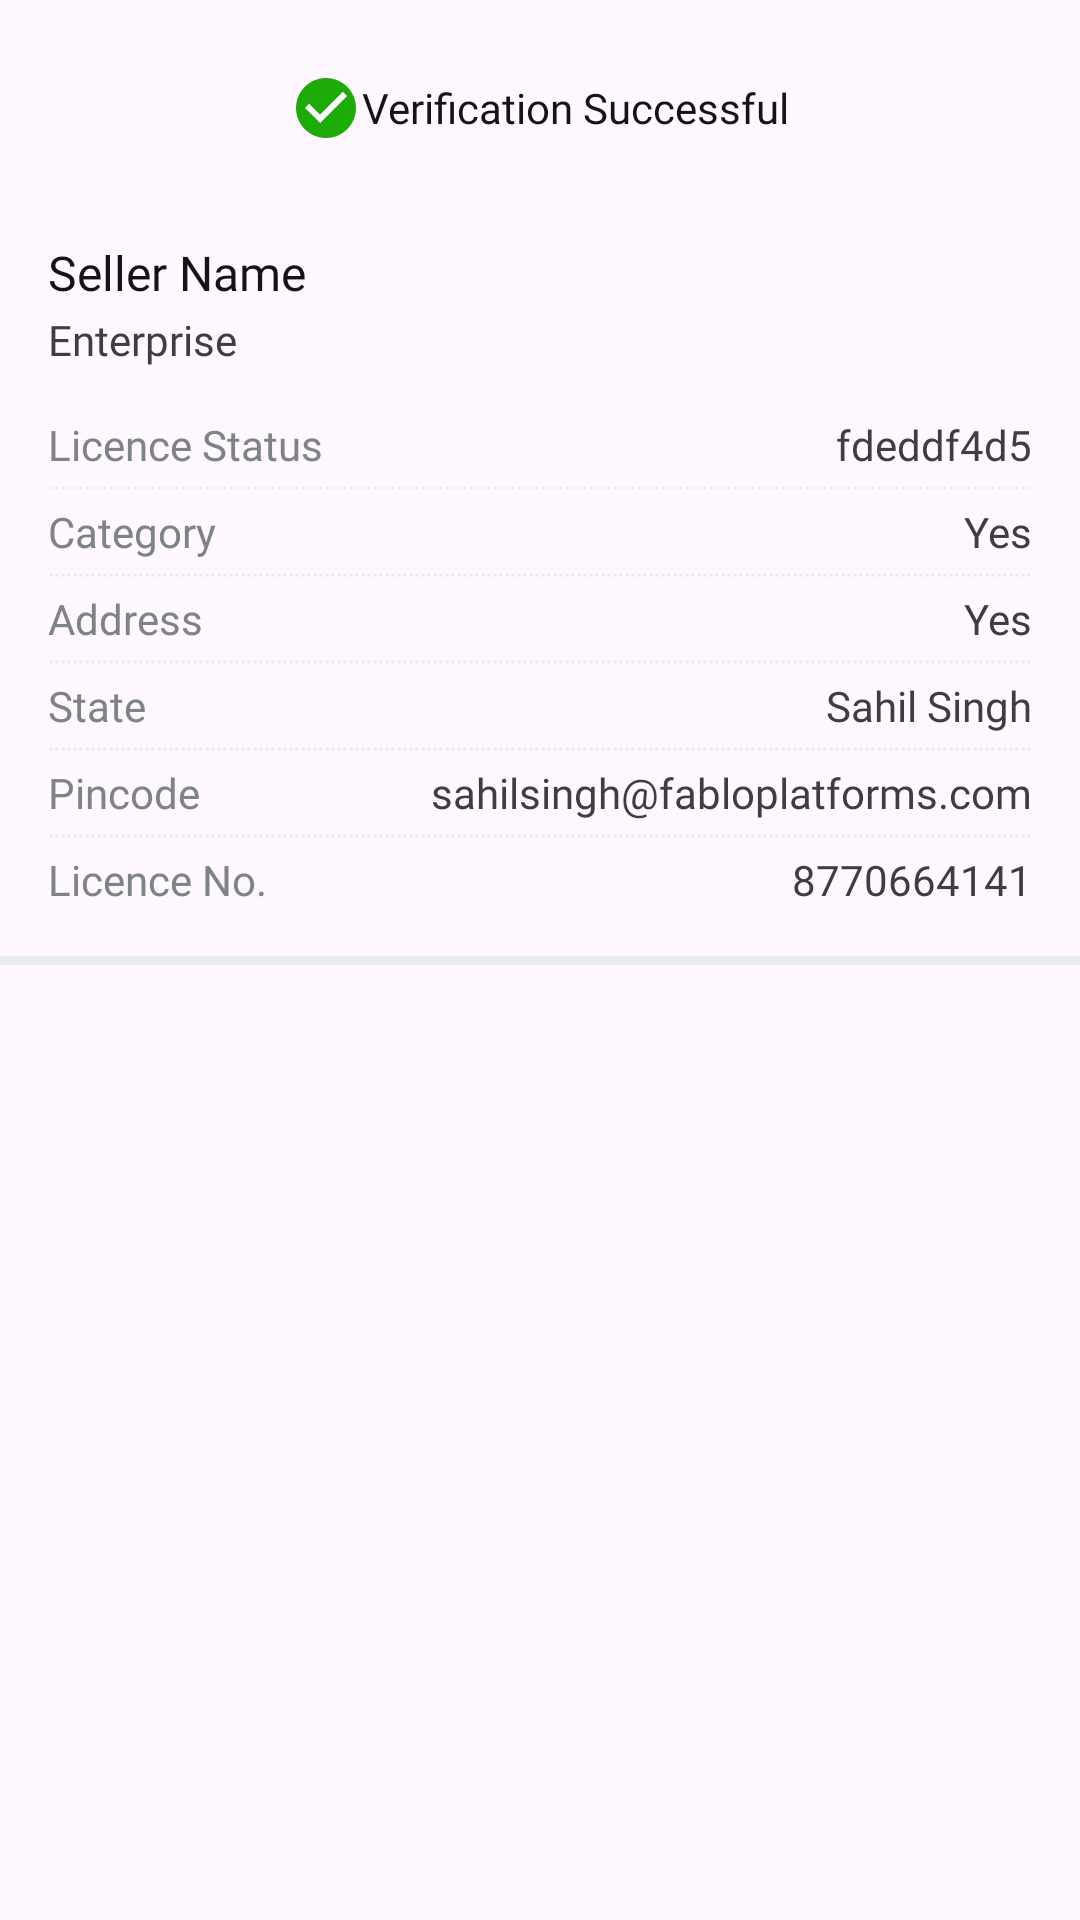

Named icons in this screenshot (1080px x 1920px) and their centers, (x,y):
check circle: (326,108)
